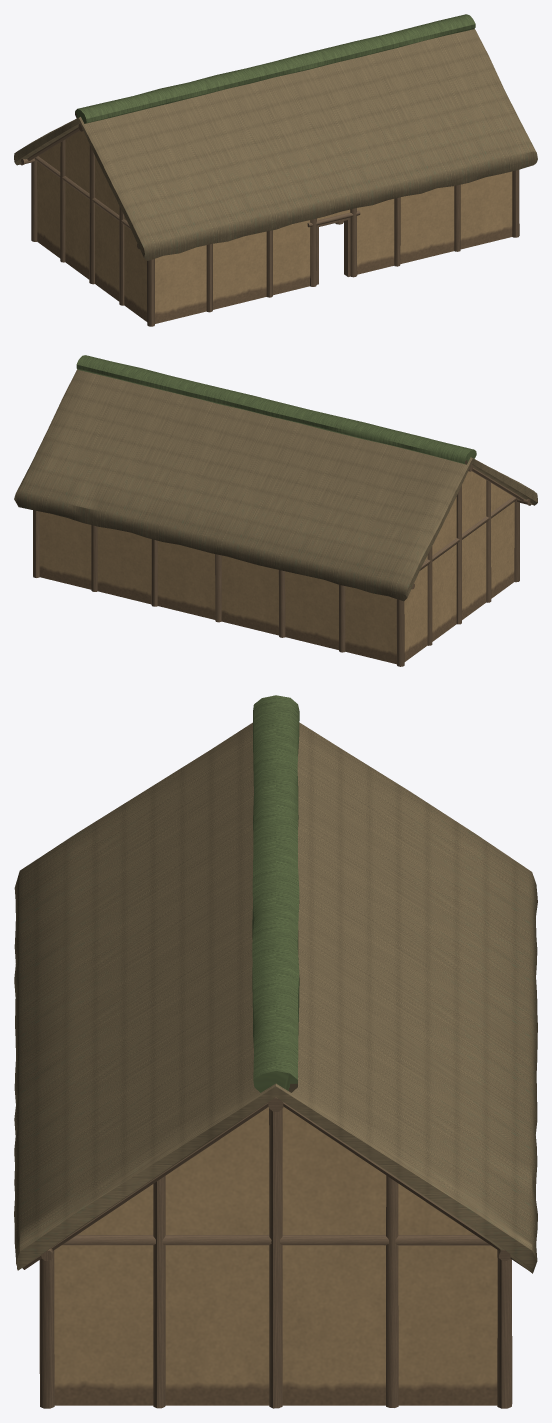
The model's file is house_002.glb.
3 views of the same model, one above another, from view 1: azimuth 30°, elevation 25°; view 2: azimuth 150°, elevation 25°; view 3: azimuth 270°, elevation 25° (orthographic). The views are drawn at different scales.
Parts seen in each view (by area): view 1: Roof, Wall, Frame, DoorRecess; view 2: Roof, Wall, Frame; view 3: Roof, Wall, Frame.
Boxes of the visible parts, x1=… form: Roof: x1=14, y1=14, x2=537, y2=260; Wall: x1=37, y1=131, x2=512, y2=323; Frame: x1=20, y1=124, x2=519, y2=326; DoorRecess: x1=316, y1=217, x2=350, y2=284; Roof: x1=14, y1=355, x2=537, y2=601; Wall: x1=39, y1=471, x2=514, y2=664; Frame: x1=33, y1=464, x2=531, y2=666; Roof: x1=14, y1=695, x2=537, y2=1273; Wall: x1=54, y1=1106, x2=497, y2=1405; Frame: x1=22, y1=1097, x2=525, y2=1408.
Size of the model in its own units: 10.8 by 4.6 by 6.3.
3 materials, 3 textured.
